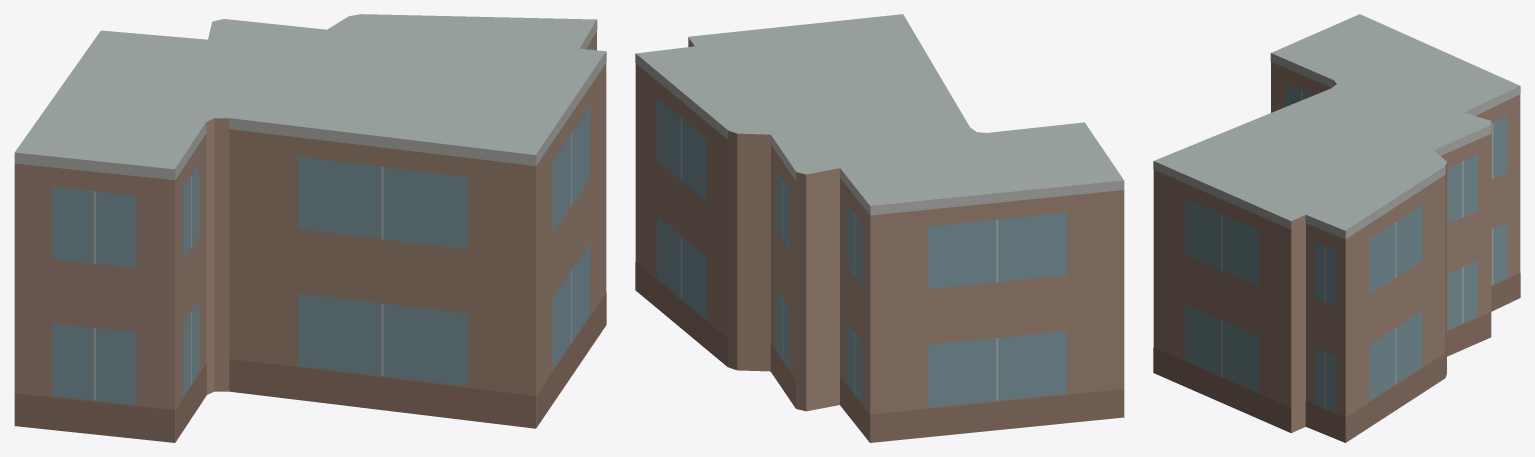
File: survey-upis-32461092.glb
The picture shows the model from 3 angles, left to right: view 1: azimuth 30°, elevation 25°; view 2: azimuth 150°, elevation 25°; view 3: azimuth 270°, elevation 25°; orthographic projection. The views are drawn at different scales.
Visible parts, largest first — view 1: survey-upis-32461092.tmp; view 2: survey-upis-32461092.tmp; view 3: survey-upis-32461092.tmp.
Boxes of the visible parts, left/top/right/bottom form: survey-upis-32461092.tmp: left=14, top=14, right=606, bottom=442; survey-upis-32461092.tmp: left=635, top=14, right=1124, bottom=442; survey-upis-32461092.tmp: left=1153, top=14, right=1520, bottom=442.
Bounding box in the file's own units: 13.39 × 6.1 × 9.58.
